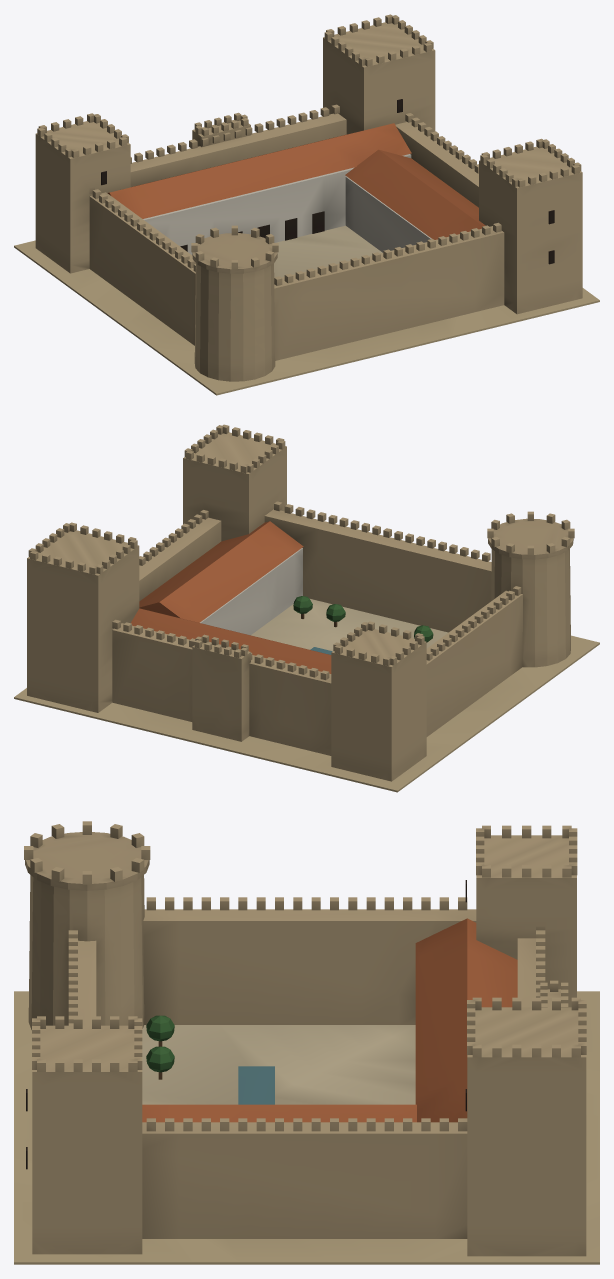
Rendered from alcazar-reyes.glb.
3 views of the same model, one above another, from view 1: azimuth 30°, elevation 25°; view 2: azimuth 150°, elevation 25°; view 3: azimuth 270°, elevation 25° (orthographic). The views are drawn at different scales.
Visible parts, largest first — view 1: p0_walls, p2_towers, p1_court; view 2: p0_walls, p2_towers, p1_court; view 3: p0_walls, p2_towers, p1_court.
Boxes of the visible parts, <box> form: p0_walls: <box>14,104,599,395</box>; p2_towers: <box>35,14,582,381</box>; p1_court: <box>107,112,485,277</box>; p0_walls: <box>14,501,599,792</box>; p2_towers: <box>27,424,574,781</box>; p1_court: <box>131,521,448,741</box>; p0_walls: <box>14,897,599,1264</box>; p2_towers: <box>24,821,586,1256</box>; p1_court: <box>142,918,568,1122</box>.
Bounding box in the file's own units: 70 × 25.4 × 64.
